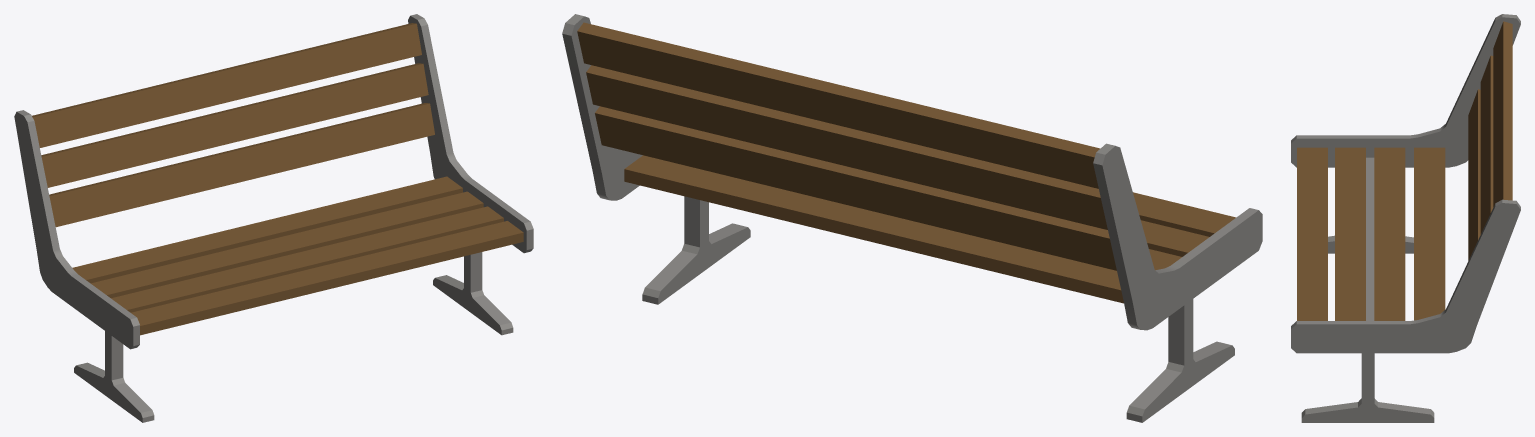
The model's file is Bench.fbx.
3 renders of one model, left to right at view 1: azimuth 30°, elevation 25°; view 2: azimuth 150°, elevation 25°; view 3: azimuth 270°, elevation 25°, orthographic. The views are drawn at different scales.
Parts seen in each view (by area): view 1: pCube34; view 2: pCube34; view 3: pCube34.
Part boxes in pixels (<box>): pCube34: <box>14,14,533,422</box>; pCube34: <box>562,14,1262,422</box>; pCube34: <box>1291,14,1520,422</box>.
Bounding box in the file's own units: 11.62 × 6.51 × 5.97.
